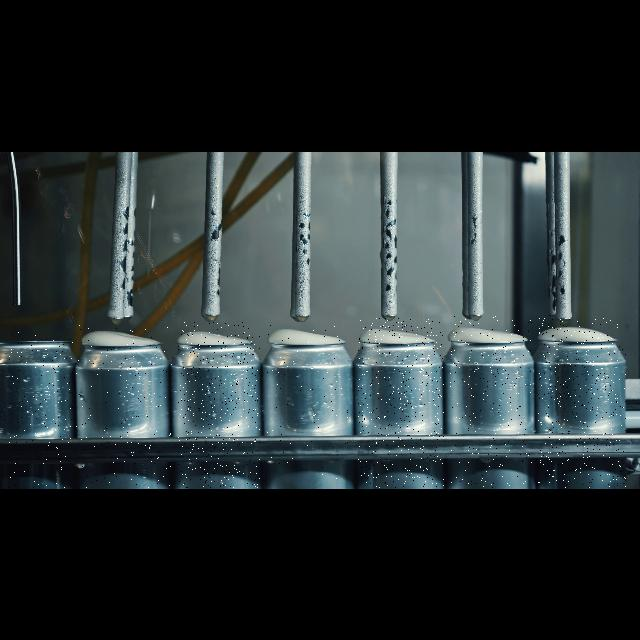empty: (7, 332, 73, 488)
full: (76, 322, 172, 488), (538, 318, 626, 488), (358, 318, 444, 488), (450, 316, 532, 488), (178, 322, 260, 488), (266, 324, 348, 488)
